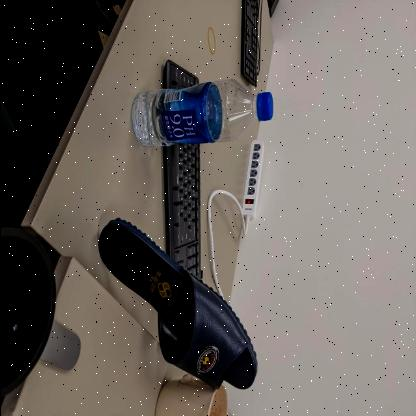Plastic Bottle: (130, 77, 274, 147)
